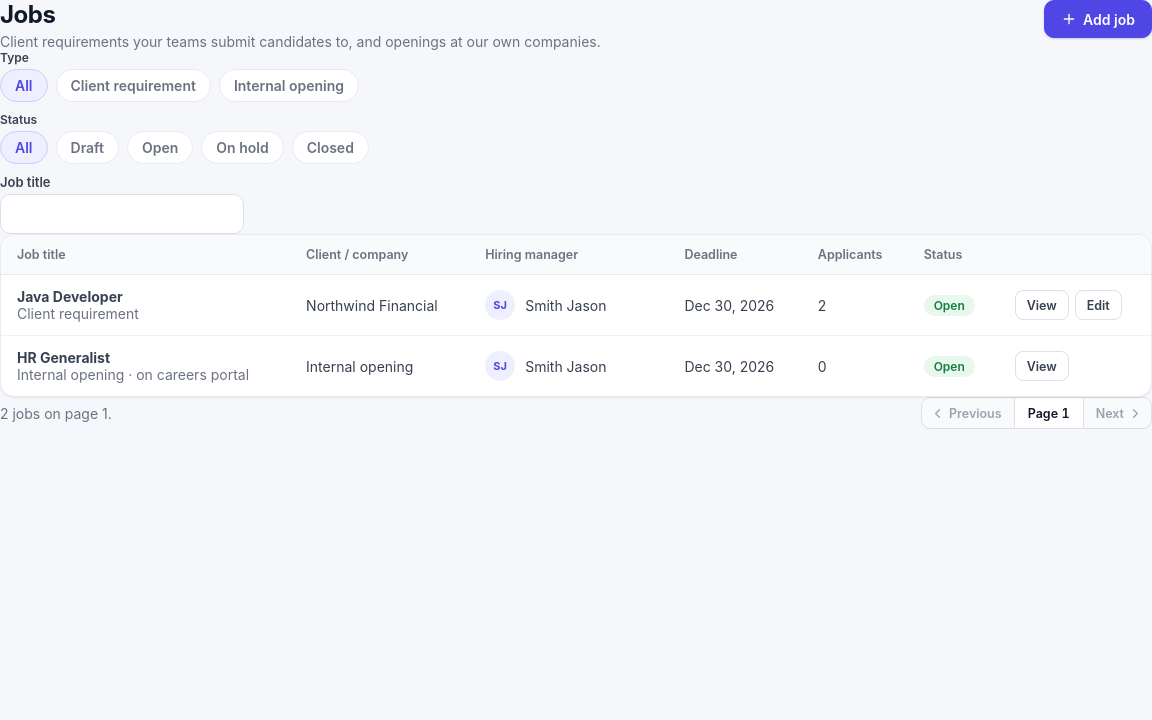
Test: Jobs page › shows details with requirements rendered as text
Click the button with aria-label "View job Java Developer": click(1042, 305) [1015, 290, 1069, 320]
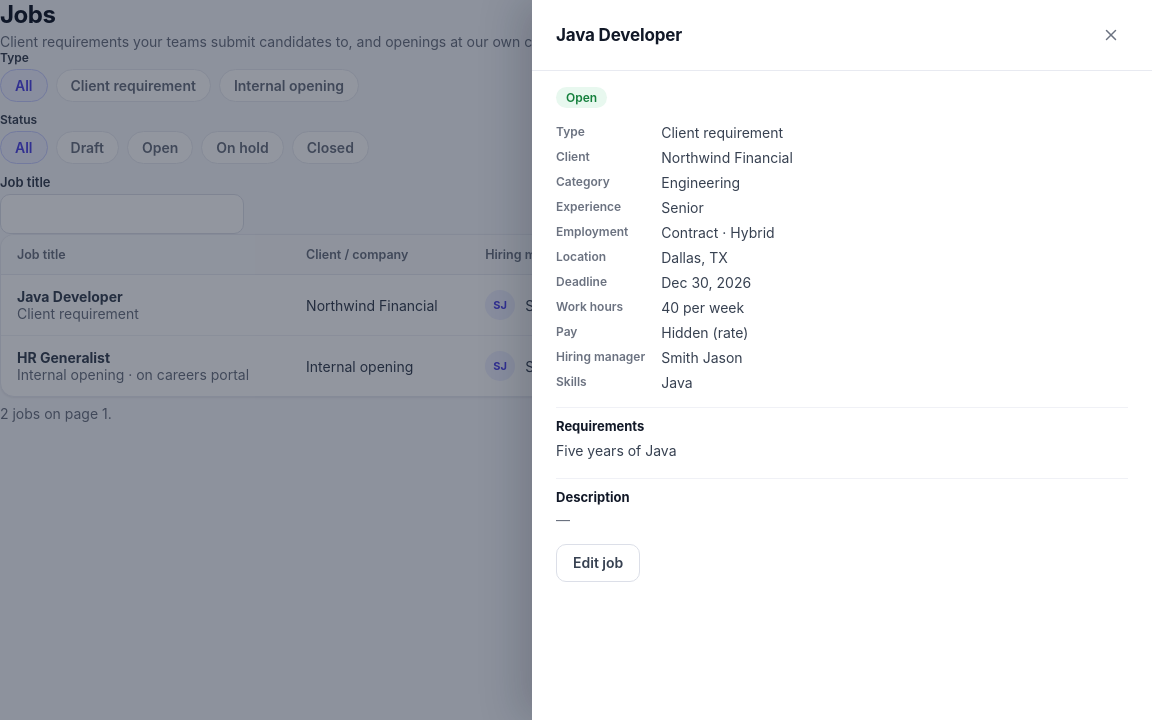
Now the text "Five years of Java" is shown, box [556, 442, 676, 459]
Now the text "Hidden (rate)" is shown, box [661, 324, 748, 341]
